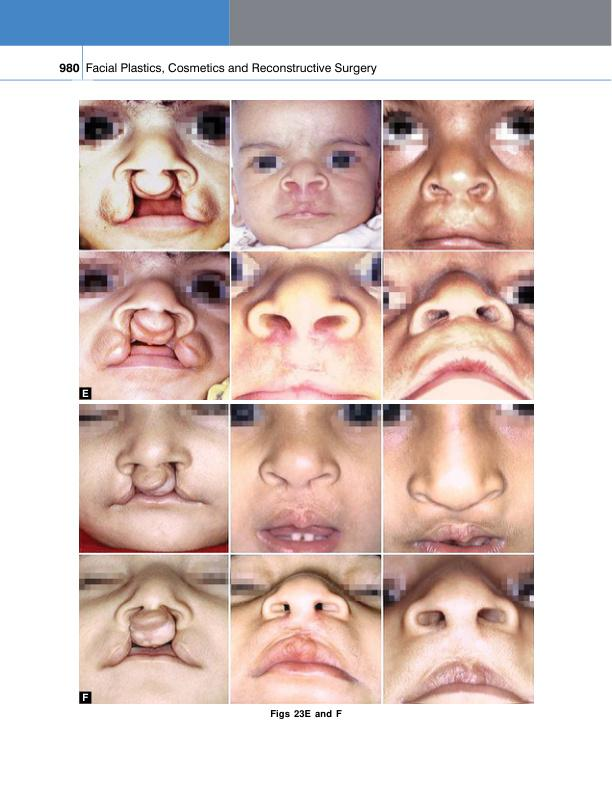caption: (270, 708, 346, 721), (81, 388, 90, 399), (81, 692, 89, 703)
header: (84, 61, 379, 76)
image: (78, 403, 535, 705), (78, 99, 535, 401)
